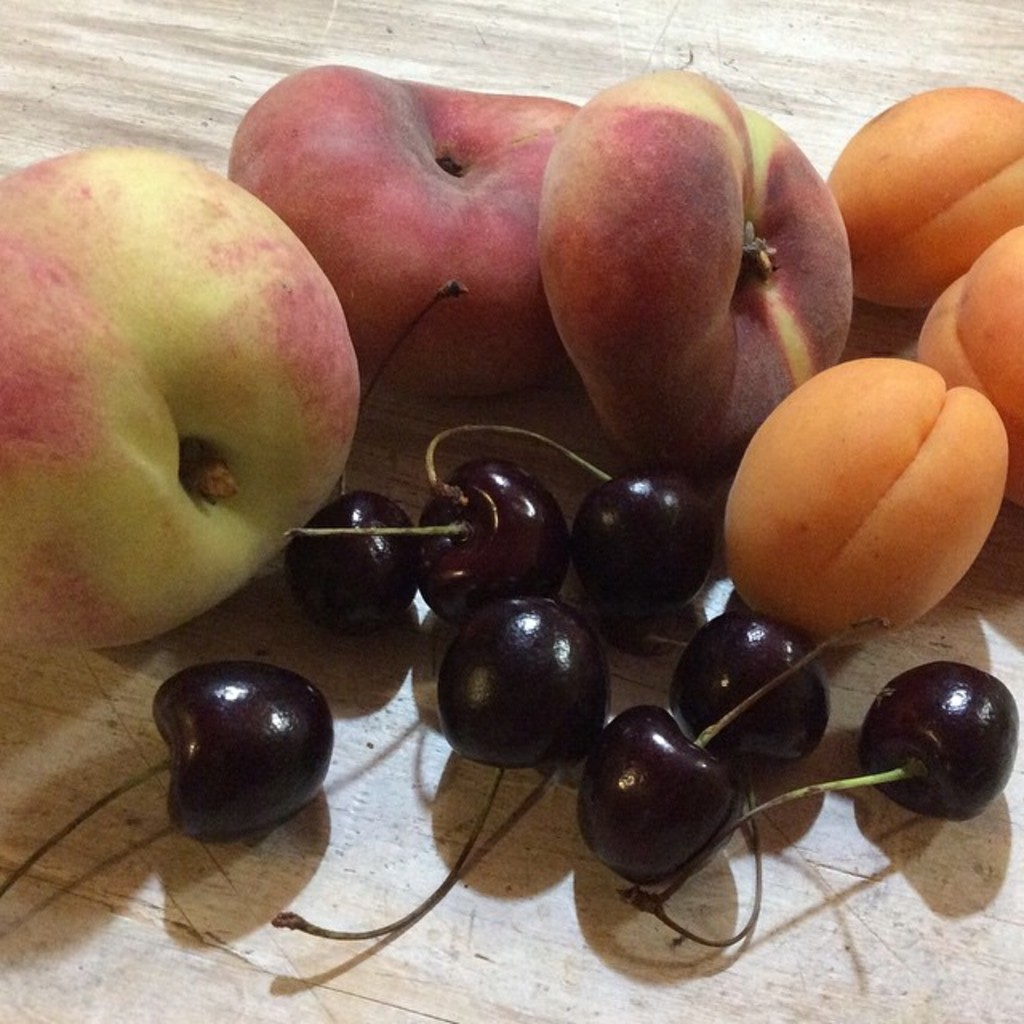Apple: (0, 142, 361, 649), (528, 56, 857, 476), (220, 64, 592, 395)
